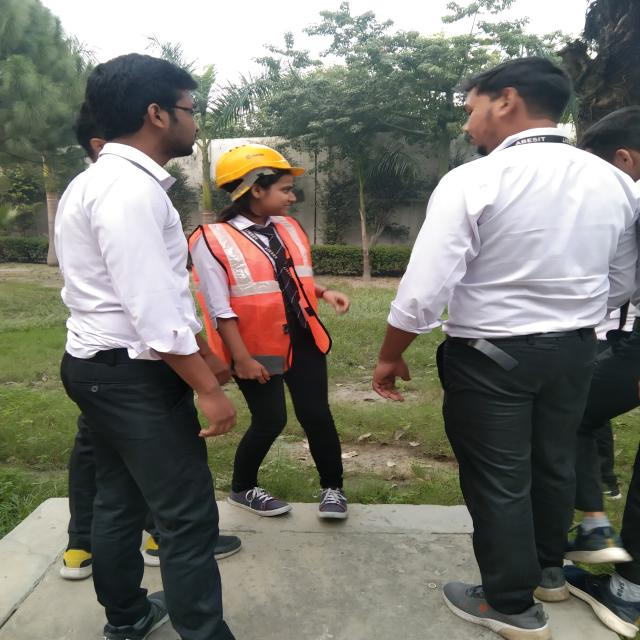safe: (218, 129, 356, 532)
unsafe: (396, 51, 634, 640), (50, 49, 227, 640)
